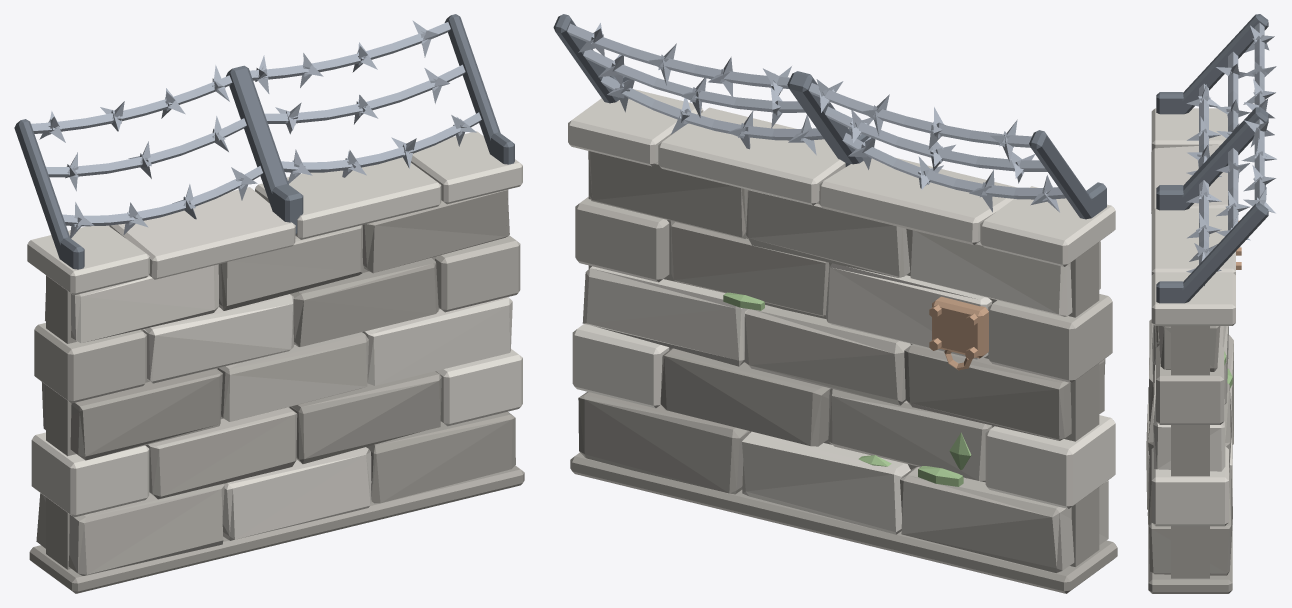
The model's file is BarbedStoneWall.fbx.
3 views of the same model, side by side, from view 1: azimuth 30°, elevation 25°; view 2: azimuth 150°, elevation 25°; view 3: azimuth 270°, elevation 25° (orthographic). The views are drawn at different scales.
Visible parts, largest first — view 1: BarbedStoneWall.CoursesDark, BarbedStoneWall.CoursesMid, BarbedStoneWall.CoursesLight, BarbedStoneWall.Capstones, BarbedStoneWall.BarbedWire, BarbedStoneWall.Ironwork, BarbedStoneWall.Plinth; view 2: BarbedStoneWall.CoursesDark, BarbedStoneWall.CoursesMid, BarbedStoneWall.CoursesLight, BarbedStoneWall.Capstones, BarbedStoneWall.BarbedWire, BarbedStoneWall.Plinth, BarbedStoneWall.Ironwork, BarbedStoneWall.AnchorPlate, BarbedStoneWall.Moss; view 3: BarbedStoneWall.Capstones, BarbedStoneWall.CoursesDark, BarbedStoneWall.Ironwork, BarbedStoneWall.BarbedWire, BarbedStoneWall.CoursesLight, BarbedStoneWall.CoursesMid, BarbedStoneWall.Plinth.
Part boxes in pixels (x1,y1,x2,y2): BarbedStoneWall.CoursesDark: [42, 189, 515, 569]; BarbedStoneWall.CoursesMid: [34, 225, 520, 575]; BarbedStoneWall.CoursesLight: [31, 264, 522, 540]; BarbedStoneWall.Capstones: [27, 131, 522, 295]; BarbedStoneWall.BarbedWire: [31, 20, 481, 238]; BarbedStoneWall.Ironwork: [14, 14, 514, 269]; BarbedStoneWall.Plinth: [29, 465, 524, 593]; BarbedStoneWall.CoursesDark: [578, 151, 1105, 566]; BarbedStoneWall.CoursesMid: [575, 190, 1112, 572]; BarbedStoneWall.CoursesLight: [572, 229, 1115, 534]; BarbedStoneWall.Capstones: [568, 89, 1115, 266]; BarbedStoneWall.BarbedWire: [567, 23, 1065, 212]; BarbedStoneWall.Plinth: [570, 452, 1117, 593]; BarbedStoneWall.Ironwork: [553, 14, 1106, 219]; BarbedStoneWall.AnchorPlate: [929, 296, 988, 370]; BarbedStoneWall.Moss: [723, 292, 971, 486]; BarbedStoneWall.Capstones: [1151, 108, 1235, 325]; BarbedStoneWall.CoursesDark: [1147, 326, 1232, 578]; BarbedStoneWall.Ironwork: [1156, 14, 1268, 303]; BarbedStoneWall.BarbedWire: [1186, 22, 1276, 285]; BarbedStoneWall.CoursesLight: [1146, 326, 1232, 526]; BarbedStoneWall.CoursesMid: [1149, 319, 1233, 444]; BarbedStoneWall.Plinth: [1148, 387, 1232, 593].
Bounding box in the file's own units: 8.28 × 7.56 × 2.31.
